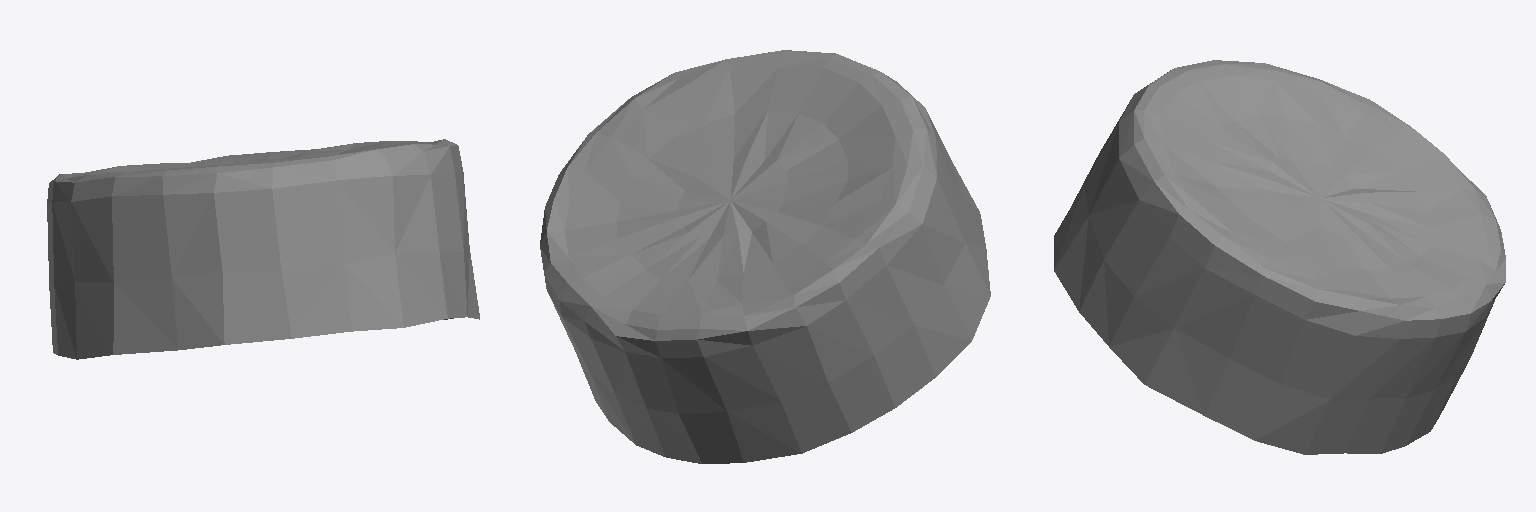
The model's file is left_home_button.obj.
3 renders of one model, left to right at view 1: azimuth 30°, elevation 25°; view 2: azimuth 150°, elevation 25°; view 3: azimuth 270°, elevation 25°, orthographic.
Visible parts, largest first — view 1: left_home_button; view 2: left_home_button; view 3: left_home_button.
Boxes of the visible parts, x1,y1,x2,y2 form: left_home_button: [47, 139, 479, 359]; left_home_button: [540, 50, 990, 463]; left_home_button: [1054, 60, 1505, 454].
Size of the model in its own units: 0.0088 by 0.0065 by 0.009.